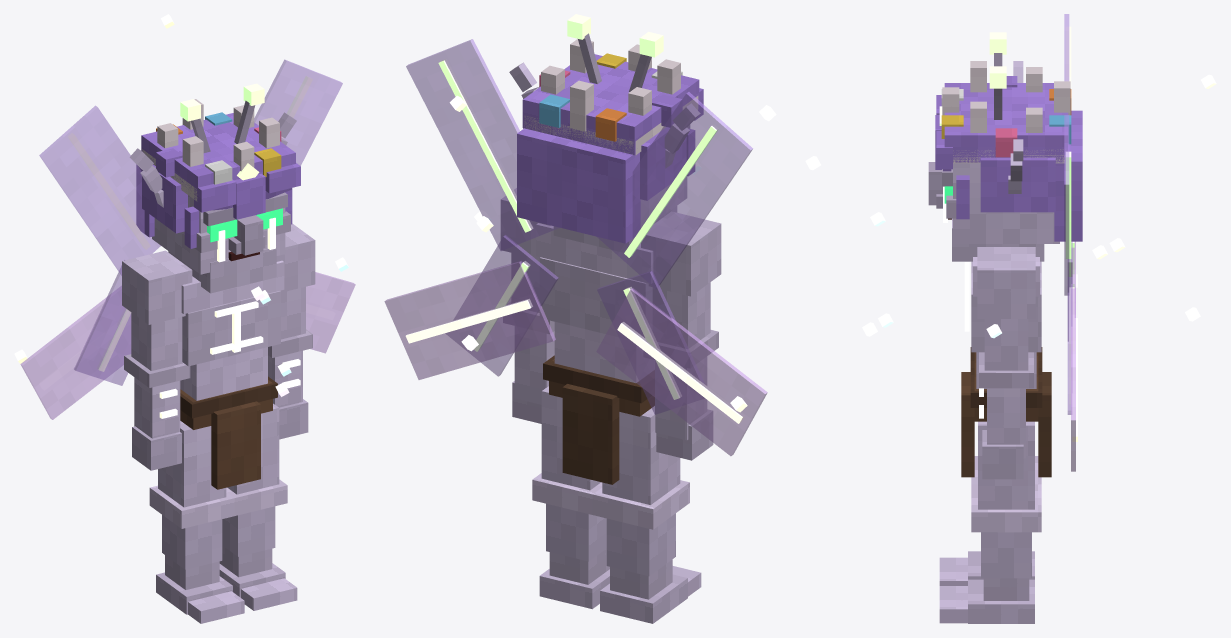
File: fairy_base_v3_evo2.glb
3 views of the same model, side by side, from view 1: azimuth 30°, elevation 25°; view 2: azimuth 150°, elevation 25°; view 3: azimuth 270°, elevation 25° (orthographic). The views are drawn at different scales.
Parts seen in each view (by area): view 1: Torso, Head, ArmR, LegR, LegL, ArmL; view 2: Torso, Head, LegR, ArmR, LegL, ArmL; view 3: Head, Torso, ArmL, LegL, LegR.
Boxes of the visible parts, x1,y1,x2,y2 form: Torso: [14, 14, 355, 489]; Head: [129, 83, 300, 293]; ArmR: [122, 250, 192, 470]; LegR: [149, 421, 244, 623]; LegL: [219, 403, 297, 610]; ArmL: [268, 223, 315, 439]; Torso: [384, 39, 776, 484]; Head: [509, 14, 703, 252]; LegR: [592, 406, 701, 623]; ArmR: [641, 211, 721, 460]; LegL: [532, 386, 609, 609]; ArmL: [500, 188, 554, 423]; Head: [928, 32, 1082, 261]; Torso: [805, 14, 1216, 477]; ArmL: [977, 247, 1035, 479]; LegL: [939, 421, 1041, 623]; LegR: [939, 456, 1041, 585].
Bounding box in the file's own units: 0.7806 × 1.11 × 0.7622.
33 materials, 33 textured.
